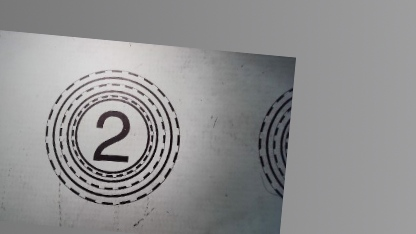2r: (35, 63, 187, 213)
